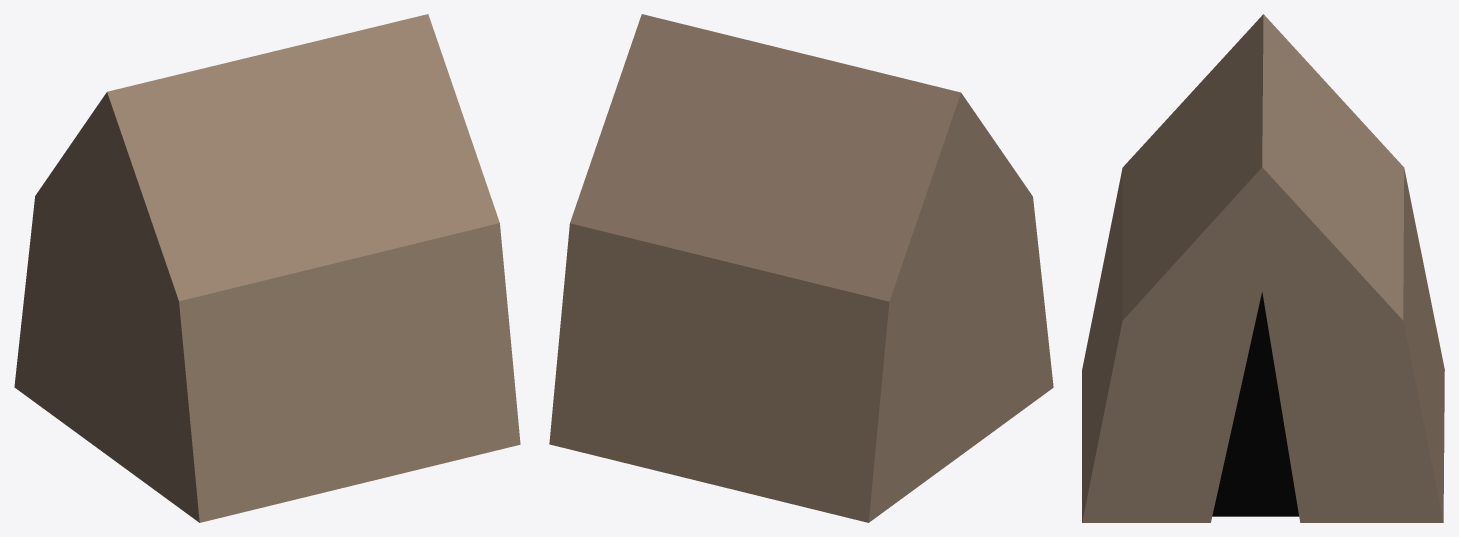
The model's file is Namiot.fbx.
3 renders of one model, left to right at view 1: azimuth 30°, elevation 25°; view 2: azimuth 150°, elevation 25°; view 3: azimuth 270°, elevation 25°, orthographic. The views are drawn at different scales.
Parts seen in each view (by area): view 1: Plane; view 2: Plane; view 3: Plane.
Boxes of the visible parts, <box> form: Plane: <box>14,14,520,522</box>; Plane: <box>549,14,1053,522</box>; Plane: <box>1082,14,1444,522</box>.
Bounding box in the file's own units: 200 × 217 × 200.
